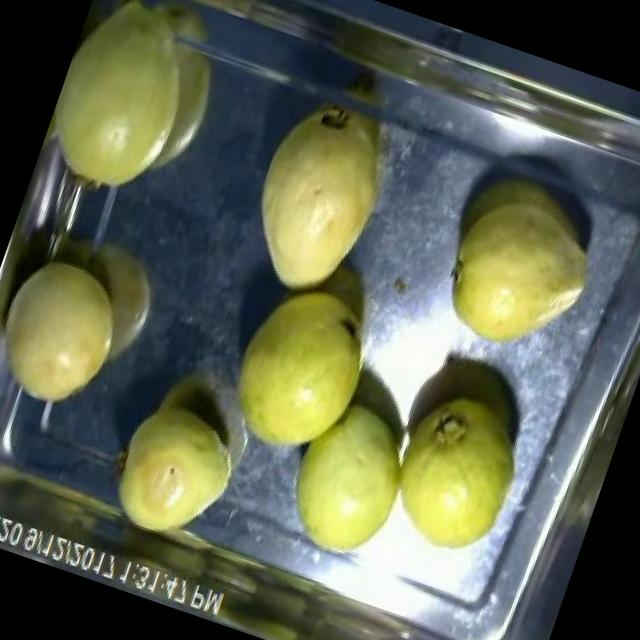Fruit: (356, 335, 568, 587), (413, 148, 630, 384), (30, 0, 251, 229), (222, 80, 417, 318), (206, 262, 397, 483), (260, 379, 438, 585), (0, 234, 146, 433), (91, 386, 258, 558)
